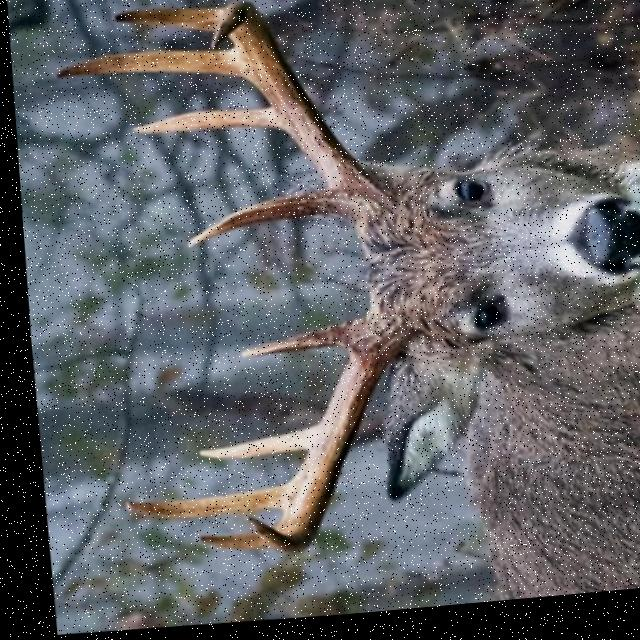L-F: (209, 5, 393, 227)
L-G1: (180, 196, 335, 251)
L-G2: (127, 112, 277, 137)
L-G3: (52, 52, 240, 82)
R-F: (234, 312, 414, 560)
R-G1: (230, 323, 357, 362)
R-G2: (187, 429, 308, 464)
R-G3: (113, 487, 280, 523)
